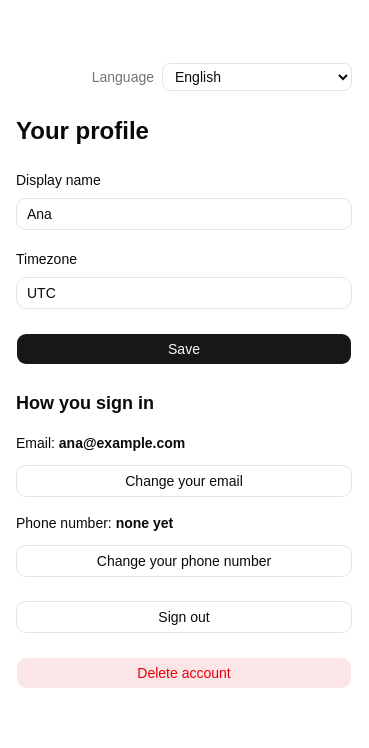
deleting the account › asks for a fresh sign-in when the last one is too old
The image size is (369, 748).
Click the button "Delete account" at (184, 673), box x1=16 y1=657 x2=352 y2=689
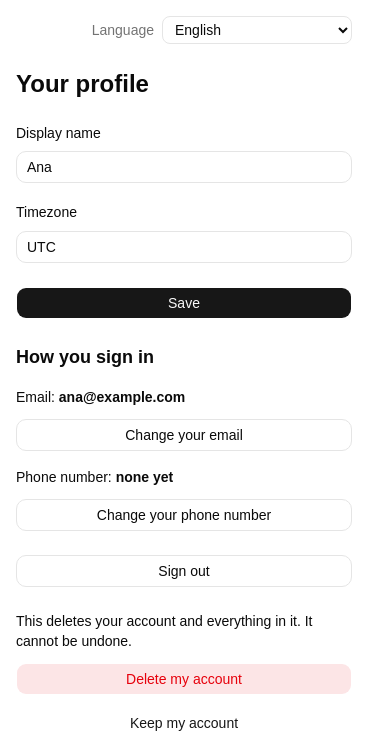
Click the button "Delete my account" at (184, 678), box x1=16 y1=662 x2=352 y2=694
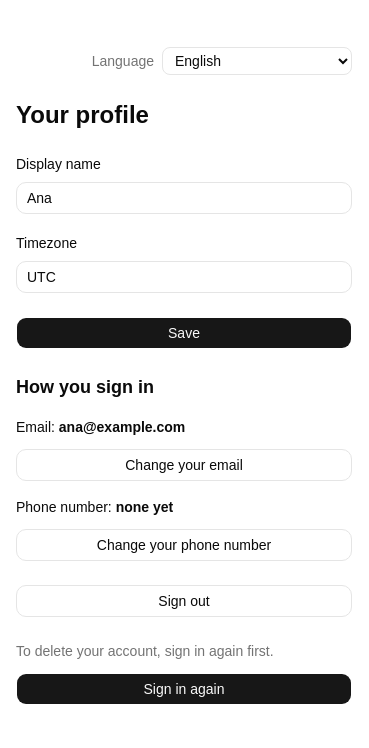
Now the button "Sign in again" is shown, box x1=16 y1=673 x2=352 y2=705
